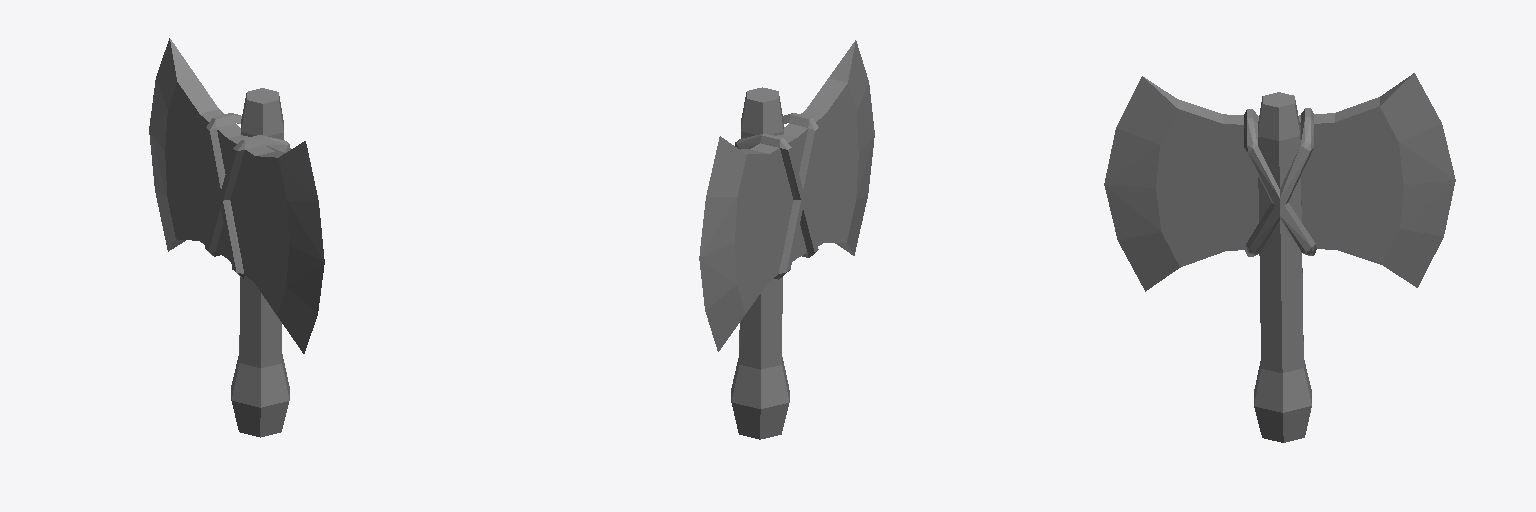
Rendered from Axe.obj.
3 renders of one model, left to right at view 1: azimuth 30°, elevation 25°; view 2: azimuth 150°, elevation 25°; view 3: azimuth 270°, elevation 25°, orthographic.
Parts seen in each view (by area): view 1: Inst3D23_RefRep.188; view 2: Inst3D23_RefRep.188; view 3: Inst3D23_RefRep.188.
Boxes of the visible parts, box(x1,y1,x2,y2) form: Inst3D23_RefRep.188: box(149, 38, 324, 437); Inst3D23_RefRep.188: box(699, 40, 874, 439); Inst3D23_RefRep.188: box(1104, 73, 1455, 442).
Size of the model in its own units: 0.7735 by 3.66 by 3.35.